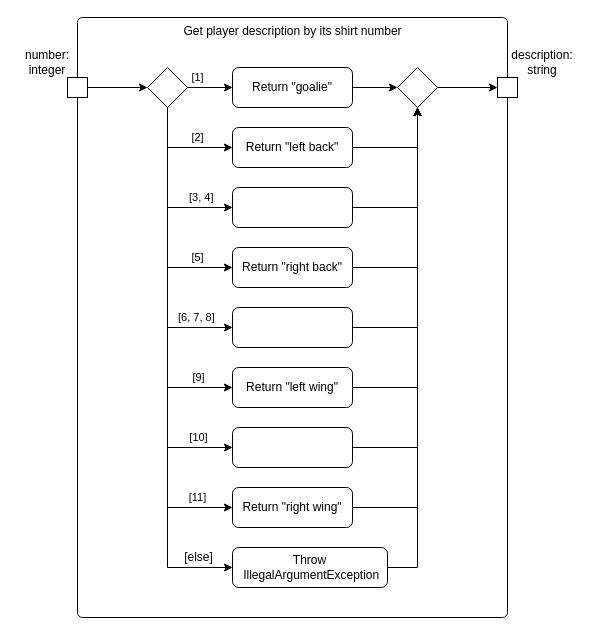
Some shapes in this 594 by 635 pixel diagram are drawn without their labels. Here are the shapes that lost their labels. From the top down, the centre of each, then its label:
[292,207]: Return "center back"
[292,327]: Return "midfielder"
[292,447]: Return "striker"
